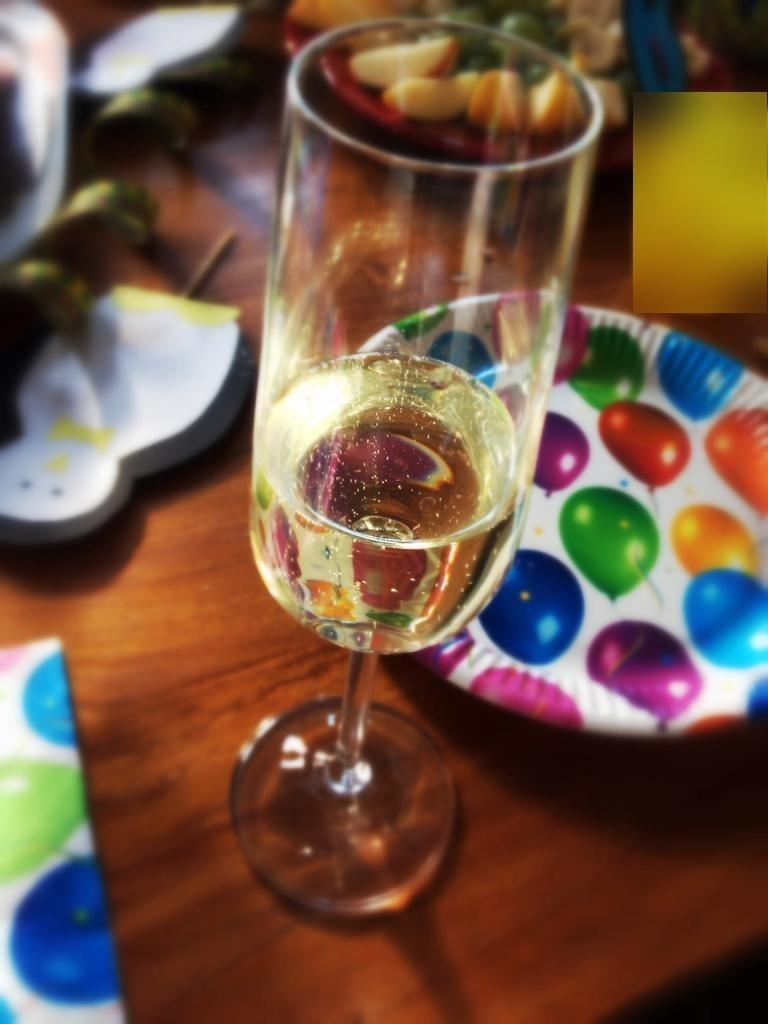glass-wine: (229, 21, 598, 913)
